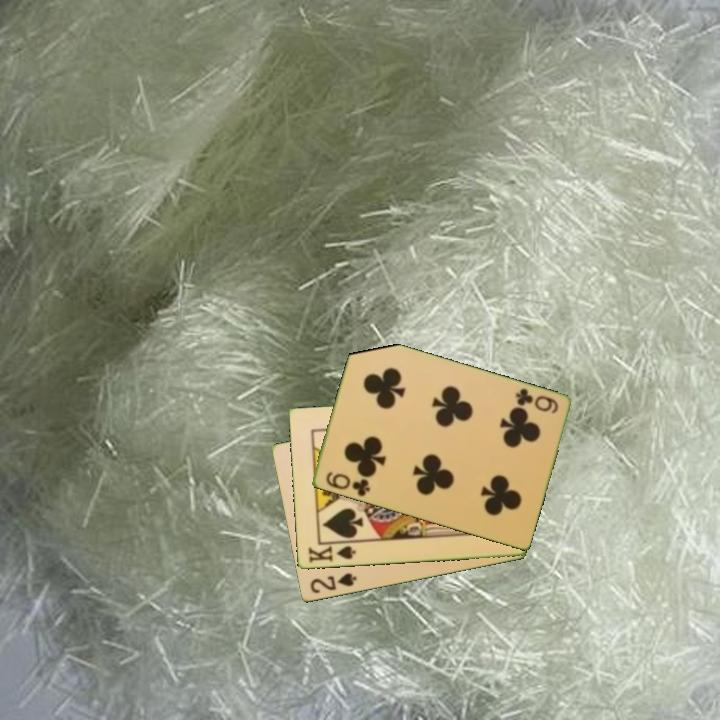2s: (306, 570, 359, 597)
6c: (512, 385, 561, 417), (322, 468, 372, 499)
Ks: (304, 543, 358, 566)
